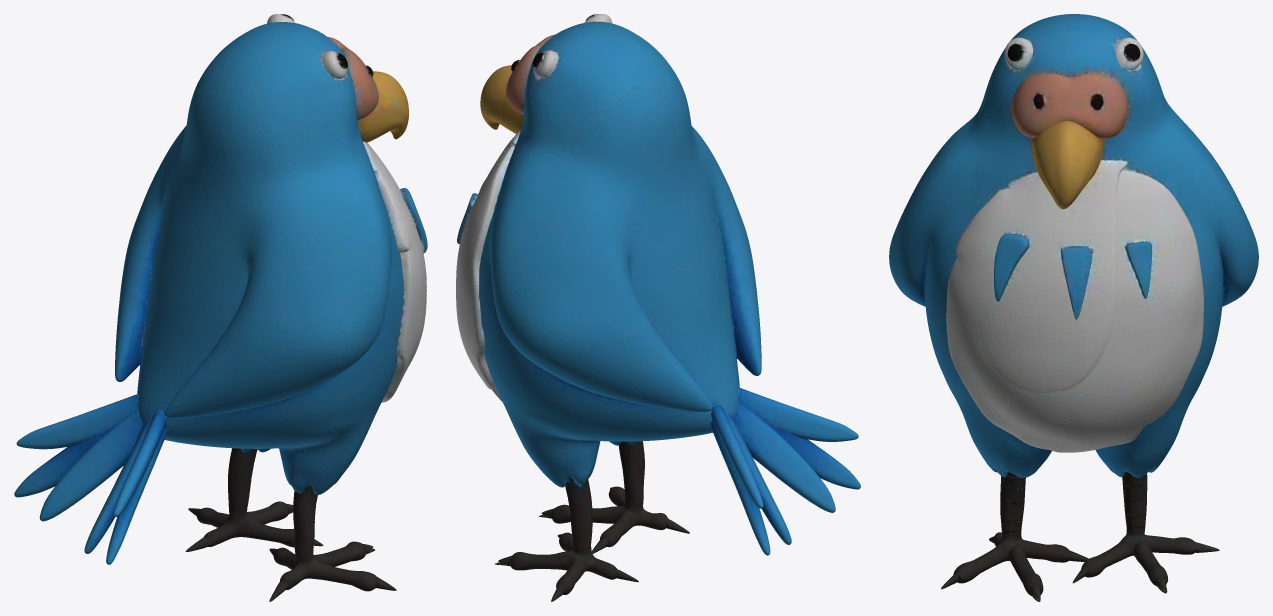
The model's file is blue-bird.glb.
3 renders of one model, left to right at view 1: azimuth 30°, elevation 25°; view 2: azimuth 150°, elevation 25°; view 3: azimuth 270°, elevation 25°, orthographic. The views are drawn at different scales.
Parts seen in each view (by area): view 1: tripo_node_619ad0aa-0ce7-4fa9-83a8-ac5346dcc7fe; view 2: tripo_node_619ad0aa-0ce7-4fa9-83a8-ac5346dcc7fe; view 3: tripo_node_619ad0aa-0ce7-4fa9-83a8-ac5346dcc7fe.
Boxes of the visible parts, left/top/right/bottom form: tripo_node_619ad0aa-0ce7-4fa9-83a8-ac5346dcc7fe: left=14, top=14, right=427, bottom=601; tripo_node_619ad0aa-0ce7-4fa9-83a8-ac5346dcc7fe: left=456, top=14, right=860, bottom=601; tripo_node_619ad0aa-0ce7-4fa9-83a8-ac5346dcc7fe: left=889, top=14, right=1258, bottom=601.
Bounding box in the file's own units: 0.6715 × 0.9795 × 0.6004.
1 material, 1 textured.
